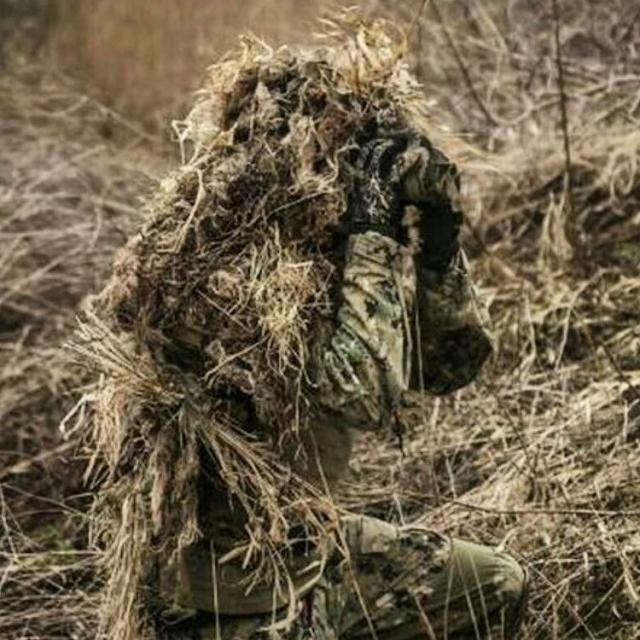Camouflage: (79, 30, 527, 637)
